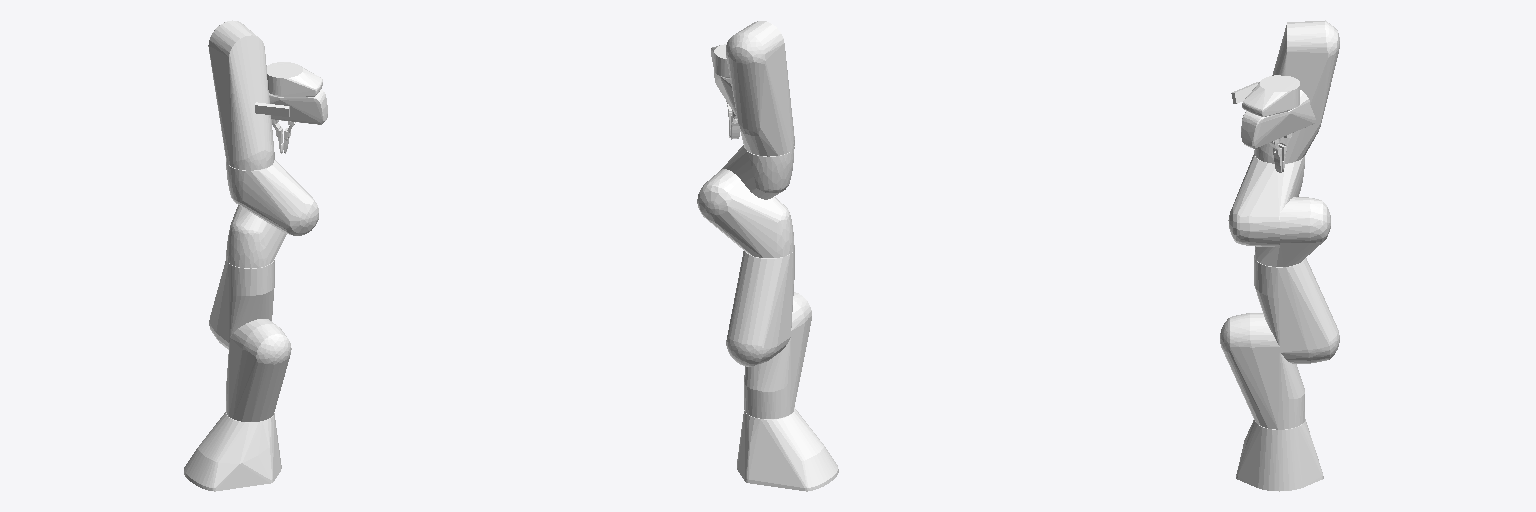
The robot description file, URDF, robot "panda":
<?xml version="1.0" ?>
<!-- =================================================================================== -->
<!-- |    This document was autogenerated by xacro from panda_arm_hand.urdf.xacro      | -->
<!-- |    EDITING THIS FILE BY HAND IS NOT RECOMMENDED                                 | -->
<!-- =================================================================================== -->
<robot name="panda" xmlns:xacro="http://www.ros.org/wiki/xacro">
  <link name="panda_link0">
  	<inertial>
      <origin rpy="0 0 0" xyz="0 0 0.05"/>
       <mass value="2.9"/>
       <inertia ixx="0.1" ixy="0" ixz="0" iyy="0.1" iyz="0" izz="0.1"/>
    </inertial>
    <visual>
      <geometry>
        <mesh filename="package://meshes/collision/link0.obj"/>
      </geometry>
      <material name="panda_white">
    		<color rgba="1. 1. 1. 1."/>
  		</material>
    </visual>
    <collision>
      <geometry>
        <mesh filename="package://meshes/collision/link0.obj"/>
      </geometry>
      <material name="panda_white"/>
    </collision>
  </link>
  <link name="panda_link1">
  	<inertial>
      <origin rpy="0 0 0" xyz="0 -0.04 -0.05"/>
       <mass value="2.7"/>
       <inertia ixx="0.1" ixy="0" ixz="0" iyy="0.1" iyz="0" izz="0.1"/>
    </inertial>
    <visual>
      <geometry>
        <mesh filename="package://meshes/visual/link1.obj"/>
      </geometry>
      <material name="panda_white"/>
    </visual>
    <collision>
      <geometry>
        <mesh filename="package://meshes/collision/link1.obj"/>
      </geometry>
      <material name="panda_white"/>
    </collision>
  </link>
  <joint name="panda_joint1" type="revolute">
    <safety_controller k_position="100.0" k_velocity="40.0" soft_lower_limit="-2.8973" soft_upper_limit="2.8973"/>
    <origin rpy="0 0 0" xyz="0 0 0.333"/>
    <parent link="panda_link0"/>
    <child link="panda_link1"/>
    <axis xyz="0 0 1"/>
    <limit effort="87" lower="-2.9671" upper="2.9671" velocity="2.1750"/>
  </joint>
  <link name="panda_link2">
  	<inertial>
      <origin rpy="0 0 0" xyz="0 -0.04 0.06"/>
       <mass value="2.73"/>
       <inertia ixx="0.1" ixy="0" ixz="0" iyy="0.1" iyz="0" izz="0.1"/>
    </inertial>
    <visual>
      <geometry>
        <mesh filename="package://meshes/visual/link2.obj"/>
      </geometry>
      <material name="panda_white"/>
    </visual>
    <collision>
      <geometry>
        <mesh filename="package://meshes/collision/link2.obj"/>
      </geometry>
      <material name="panda_white"/>
    </collision>
  </link>
  <joint name="panda_joint2" type="revolute">
    <safety_controller k_position="100.0" k_velocity="40.0" soft_lower_limit="-1.7628" soft_upper_limit="1.7628"/>
    <origin rpy="-1.57079632679 0 0" xyz="0 0 0"/>
    <parent link="panda_link1"/>
    <child link="panda_link2"/>
    <axis xyz="0 0 1"/>
    <limit effort="87" lower="-1.8326" upper="1.8326" velocity="2.1750"/>
  </joint>
  <link name="panda_link3">
	  <inertial>
      <origin rpy="0 0 0" xyz="0.01 0.01 -0.05"/>
       <mass value="2.04"/>
       <inertia ixx="0.1" ixy="0" ixz="0" iyy="0.1" iyz="0" izz="0.1"/>
    </inertial>
    <visual>
      <geometry>
        <mesh filename="package://meshes/visual/link3.obj"/>
      </geometry>
      <material name="panda_red">
    		<color rgba="1. 1. 1. 1."/>
  		</material>
    </visual>
    <collision>
      <geometry>
        <mesh filename="package://meshes/collision/link3.obj"/>
      </geometry>
    </collision>
  </link>
  <joint name="panda_joint3" type="revolute">
    <safety_controller k_position="100.0" k_velocity="40.0" soft_lower_limit="-2.8973" soft_upper_limit="2.8973"/>
    <origin rpy="1.57079632679 0 0" xyz="0 -0.316 0"/>
    <parent link="panda_link2"/>
    <child link="panda_link3"/>
    <axis xyz="0 0 1"/>
    <limit effort="87" lower="-2.9671" upper="2.9671" velocity="2.1750"/>
  </joint>
  <link name="panda_link4">
  	<inertial>
      <origin rpy="0 0 0" xyz="-0.03 0.03 0.02"/>
       <mass value="2.08"/>
       <inertia ixx="0.1" ixy="0" ixz="0" iyy="0.1" iyz="0" izz="0.1"/>
    </inertial>
    <visual>
      <geometry>
        <mesh filename="package://meshes/visual/link4.obj"/>
      </geometry>
      <material name="panda_white"/>
    </visual>
    <collision>
      <geometry>
        <mesh filename="package://meshes/collision/link4.obj"/>
      </geometry>
      <material name="panda_white"/>
    </collision>
  </link>
  <joint name="panda_joint4" type="revolute">
    <safety_controller k_position="100.0" k_velocity="40.0" soft_lower_limit="-3.0718" soft_upper_limit="-0.0698"/>
    <origin rpy="1.57079632679 0 0" xyz="0.0825 0 0"/>
    <parent link="panda_link3"/>
    <child link="panda_link4"/>
    <axis xyz="0 0 1"/>
    <limit effort="87" lower="-3.1416" upper="0.0" velocity="2.1750"/>
  </joint>
  <link name="panda_link5">
  	<inertial>
      <origin rpy="0 0 0" xyz="0 0.04 -0.12"/>
       <mass value="3"/>
       <inertia ixx="0.1" ixy="0" ixz="0" iyy="0.1" iyz="0" izz="0.1"/>
    </inertial>
    <visual>
      <geometry>
        <mesh filename="package://meshes/visual/link5.obj"/>
      </geometry>
      <material name="panda_white"/>
    </visual>
    <collision>
      <geometry>
        <mesh filename="package://meshes/collision/link5.obj"/>
      </geometry>
      <material name="panda_white"/>
    </collision>
  </link>
  <joint name="panda_joint5" type="revolute">
    <safety_controller k_position="100.0" k_velocity="40.0" soft_lower_limit="-2.8973" soft_upper_limit="2.8973"/>
    <origin rpy="-1.57079632679 0 0" xyz="-0.0825 0.384 0"/>
    <parent link="panda_link4"/>
    <child link="panda_link5"/>
    <axis xyz="0 0 1"/>
    <limit effort="12" lower="-2.9671" upper="2.9671" velocity="2.6100"/>
  </joint>
  <link name="panda_link6">
  	<inertial>
      <origin rpy="0 0 0" xyz="0.04 0 0"/>
       <mass value="1.3"/>
       <inertia ixx="0.1" ixy="0" ixz="0" iyy="0.1" iyz="0" izz="0.1"/>
    </inertial>
    <visual>
      <geometry>
        <mesh filename="package://meshes/visual/link6.obj"/>
      </geometry>
      <material name="panda_white"/>
    </visual>
    <collision>
      <geometry>
        <mesh filename="package://meshes/collision/link6.obj"/>
      </geometry>
      <material name="panda_white"/>
    </collision>
  </link>
  <joint name="panda_joint6" type="revolute">
    <safety_controller k_position="100.0" k_velocity="40.0" soft_lower_limit="-0.0175" soft_upper_limit="3.7525"/>
    <origin rpy="1.57079632679 0 0" xyz="0 0 0"/>
    <parent link="panda_link5"/>
    <child link="panda_link6"/>
    <axis xyz="0 0 1"/>
    <limit effort="12" lower="-0.0873" upper="3.8223" velocity="2.6100"/>
  </joint>
  <link name="panda_link7">
  	<inertial>
      <origin rpy="0 0 0" xyz="0 0 0.08"/>
       <mass value=".2"/>
       <inertia ixx="0.1" ixy="0" ixz="0" iyy="0.1" iyz="0" izz="0.1"/>
    </inertial>
    <visual>
      <geometry>
        <mesh filename="package://meshes/collision/link7.obj"/>
      </geometry>
      <material name="panda_white"/>
    </visual>
    <collision>
      <geometry>
        <mesh filename="package://meshes/collision/link7.obj"/>
      </geometry>
      <material name="panda_white"/>
    </collision>
  </link>
  <joint name="panda_joint7" type="revolute">
    <safety_controller k_position="100.0" k_velocity="40.0" soft_lower_limit="-2.8973" soft_upper_limit="2.8973"/>
    <origin rpy="1.57079632679 0 0" xyz="0.088 0 0"/>
    <parent link="panda_link6"/>
    <child link="panda_link7"/>
    <axis xyz="0 0 1"/>
    <limit effort="12" lower="-2.9671" upper="2.9671" velocity="2.6100"/>
  </joint>
  <link name="panda_link8">
  	 <inertial>
      <origin rpy="0 0 0" xyz="0 0 0"/>
       <mass value="0.0"/>
       <inertia ixx="0.1" ixy="0" ixz="0" iyy="0.1" iyz="0" izz="0.1"/>
    </inertial>
  </link>
  <joint name="panda_joint8" type="fixed">
    <origin rpy="0 0 0" xyz="0 0 0.107"/>
    <parent link="panda_link7"/>
    <child link="panda_link8"/>
    <axis xyz="0 0 0"/>
  </joint>
  <joint name="panda_hand_joint" type="fixed">
    <parent link="panda_link8"/>
    <child link="panda_hand"/>
    <origin rpy="0 0 -0.785398163397" xyz="0 0 0"/>
  </joint>
  <link name="panda_hand">
  	<inertial>
      <origin rpy="0 0 0" xyz="0 0 0.04"/>
       <mass value=".81"/>
       <inertia ixx="0.1" ixy="0" ixz="0" iyy="0.1" iyz="0" izz="0.1"/>
    </inertial>
    <visual>
      <geometry>
        <mesh filename="package://meshes/visual/hand.obj"/>
      </geometry>
      <material name="panda_white"/>
    </visual>
    <collision>
      <geometry>
        <mesh filename="package://meshes/collision/hand.obj"/>
      </geometry>
      <material name="panda_white"/>
    </collision>
  </link>
  <link name="panda_leftfinger">
       <contact>
      <friction_anchor/>
      <stiffness value="30000.0"/>
      <damping value="1000.0"/>
      <spinning_friction value="0.1"/>
      <lateral_friction value="1.0"/>
    </contact>
  	<inertial>
      <origin rpy="0 0 0" xyz="0 0.01 0.02"/>
       <mass value="0.1"/>
       <inertia ixx="0.1" ixy="0" ixz="0" iyy="0.1" iyz="0" izz="0.1"/>
    </inertial>
    <visual>
      <geometry>
        <mesh filename="package://meshes/visual/longer_finger_v2.obj"/>
      </geometry>
      <material name="panda_white"/>
    </visual>
    <collision>
      <geometry>
        <mesh filename="package://meshes/collision/longer_finger_v2.obj"/>
      </geometry>
      <material name="panda_white"/>
    </collision>
  </link>
  <link name="panda_rightfinger">
        <contact>
      <friction_anchor/>
      <stiffness value="30000.0"/>
      <damping value="1000.0"/>
      <spinning_friction value="0.1"/>
      <lateral_friction value="1.0"/>
    </contact>

  	<inertial>
      <origin rpy="0 0 0" xyz="0 -0.01 0.02"/>
       <mass value="0.1"/>
       <inertia ixx="0.1" ixy="0" ixz="0" iyy="0.1" iyz="0" izz="0.1"/>
    </inertial>
    <visual>
      <origin rpy="0 0 3.14159265359" xyz="0 0 0"/>
      <geometry>
        <mesh filename="package://meshes/visual/longer_finger_v2.obj"/>
      </geometry>
      <material name="panda_white"/>
    </visual>
    <collision>
      <origin rpy="0 0 3.14159265359" xyz="0 0 0"/>
      <geometry>
        <mesh filename="package://meshes/collision/longer_finger_v2.obj"/>
      </geometry>
      <material name="panda_white"/>
    </collision>
  </link>
  <joint name="panda_finger_joint1" type="prismatic">
    <parent link="panda_hand"/>
    <child link="panda_leftfinger"/>
    <origin rpy="0 0 0" xyz="0 0 0.0584"/>
    <axis xyz="0 1 0"/>
    <limit effort="20" lower="0.0" upper="0.04" velocity="0.2"/>
  </joint>
  <joint name="panda_finger_joint2" type="prismatic">
    <parent link="panda_hand"/>
    <child link="panda_rightfinger"/>
    <origin rpy="0 0 0" xyz="0 0 0.0584"/>
    <axis xyz="0 -1 0"/>
    <limit effort="20" lower="0.0" upper="0.04" velocity="0.2"/>
    <mimic joint="panda_finger_joint1"/>
  </joint>
   <link name="panda_grasptarget">
 <inertial>
      <origin rpy="0 0 0" xyz="0 0 0"/>
       <mass value="0.0"/>
       <inertia ixx="0.1" ixy="0" ixz="0" iyy="0.1" iyz="0" izz="0.1"/>
    </inertial>
   </link>
   <joint name="panda_grasptarget_hand" type="fixed">
    <parent link="panda_hand"/>
    <child link="panda_grasptarget"/>
    <origin rpy="0 0 0" xyz="0 0 0.105"/>
  </joint>

<!-- attach camera object to gripper-->

    <joint name="camera_joint" type='fixed'>
	  <parent link="panda_hand"/>
	  <child link="gripper_cam"/>
	  <origin xyz="-0.1 0 0" rpy="1.3  0 -1.57"/>
    </joint>

	 <link name="gripper_cam">
		<inertial>
			<origin rpy="0 0 0" xyz="0 0.0 0.0"/>
			<mass value="0.2"/>
			<inertia ixx="0.1" ixy="0" ixz="0" iyy="0.1" iyz="0" izz="0.1"/>
		</inertial>

		<visual>
		  <origin rpy="0 0 0" xyz="0 0 0"/>
		  <geometry>
			<box size=".08 .025 0.01"/>
		  </geometry>
		  <material name="panda_white"/>
		</visual>

	 </link>

	<joint name="tcp_joint" type='fixed'>
	  <parent link="panda_hand"/>
	  <child link="tcp"/>
	  <origin xyz="0 0 0.14" rpy="0 0 0"/>
    </joint>

	<link name="tcp">
		<inertial>
			<origin rpy="0 0 0" xyz="0 0.0 0.0"/>
			<mass value="0.00001"/>
			<inertia ixx="0.1" ixy="0" ixz="0" iyy="0.1" iyz="0" izz="0.1"/>
		</inertial>

	 </link>
  <joint name="joint_finger_tip_left" type="fixed">
     <origin xyz="0.0009 0.021 0.066" rpy="0 0 -1.57" />
     <parent link="panda_leftfinger"/>
     <child link="finger_left_tip" />
     <dynamics friction="100" damping="100" />
     <axis xyz="1 0 0"/>
     <limit effort="100" velocity="100"/>
  </joint>

  <link name="finger_left_tip">
    <inertial>
        <mass value="0.0001" />
        <origin xyz="0 0 0" />
    <inertia ixx="1.0" ixy="0.0" ixz="0.0"
             iyy="1.0" iyz="0.0"
             izz="1.0" />
    </inertial>
    <contact>
      <lateral_friction value="1"/>
      <spinning_friction value=".001"/>
    </contact>
    <visual>
          <!-- <origin xyz="-0.006 0 0.057" rpy="0 0 0" /> -->
          <geometry>
             <mesh filename="package://meshes/visual/digit_gel_only.STL"/>
          </geometry>
          <material name="white">
            <color rgba="1. 1. 1. 1"/>
          </material>
      </visual>

      <collision>
          <!-- <origin xyz="-0.006 0 0.057" rpy="0 0 0" /> -->
          <geometry>
             <mesh filename="package://meshes/visual/digit_gel_only.STL"/>
         </geometry>
     </collision>


  </link>


  <joint name="joint_finger_tip_right" type="fixed">

      <origin xyz="-0.0009 -0.021 0.066" rpy="0 0 1.57" />
     <parent link="panda_rightfinger"/>
     <child link="finger_right_tip" />
     <dynamics friction="100" damping="100" />
     <axis xyz="1 0 0"/>
     <limit effort="100" velocity="100"/>
  </joint>

  <link name="finger_right_tip">
      <inertial>
          <mass value="0.0001" />
          <origin xyz="0 0 0" />
      <inertia ixx="1.0" ixy="0.0" ixz="0.0"
               iyy="1.0" iyz="0.0"
               izz="1.0" />
      </inertial>
        <contact>
      <lateral_friction value="1"/>
      <spinning_friction value=".001"/>
    </contact>
    <visual>
          <!-- <origin xyz="-0.006 0 0.057" rpy="0 0 0" /> -->
          <geometry>
             <mesh filename="package://meshes/visual/digit_gel_only.STL"/>
          </geometry>
          <material name="white">
            <color rgba="1. 1. 1. 1"/>
          </material>
      </visual>

      <collision>
          <!-- <origin xyz="-0.006 0 0.057" rpy="0 0 0" /> -->
          <geometry>
             <mesh filename="package://meshes/visual/digit_gel_only.STL"/>
         </geometry>
     </collision>


  </link>
</robot>

--- Facts derived from the render (not from the file) ---
Views: 3 orthographic renders of the robot side by side, from view 1: azimuth 30°, elevation 25°; view 2: azimuth 150°, elevation 25°; view 3: azimuth 270°, elevation 25°.
Model panda with 17 links and 16 joints (7 revolute, 2 prismatic, 7 fixed), rooted at panda_link0, posed all joints at 0.
Visible links, largest first — view 1: panda_link5, panda_link0, panda_link1, panda_link4, panda_link2, panda_link3, panda_link7, panda_hand; view 2: panda_link5, panda_link2, panda_link0, panda_link3, panda_link1, panda_link4; view 3: panda_link1, panda_link2, panda_link5, panda_link0, panda_link4, panda_link3, panda_hand, panda_link7.
Boxes of the visible links, x1,y1,x2,y2 form: panda_link5: (208,20,274,170); panda_link0: (184,412,281,491); panda_link1: (226,319,291,421); panda_link4: (226,160,318,235); panda_link2: (209,260,274,349); panda_link3: (226,205,286,268); panda_link7: (267,62,322,96); panda_hand: (269,90,327,124); panda_link5: (726,21,794,156); panda_link2: (726,248,794,366); panda_link0: (737,407,838,491); panda_link3: (697,169,794,257); panda_link1: (744,292,811,418); panda_link4: (721,145,794,199); panda_link1: (1220,313,1304,429); panda_link2: (1254,258,1339,363); panda_link5: (1254,20,1339,163); panda_link0: (1236,419,1323,491); panda_link4: (1228,154,1304,246); panda_link3: (1254,197,1330,266); panda_hand: (1241,90,1315,148); panda_link7: (1242,75,1299,116).
Size in the robot's own frame: 0.3253 by 0.2593 by 1.09 metres.
12 mesh visuals loaded from 11 distinct referenced files (1 binary STL, 9 OBJ); not drawn: 1 (reference not matched to a file when rendering).
